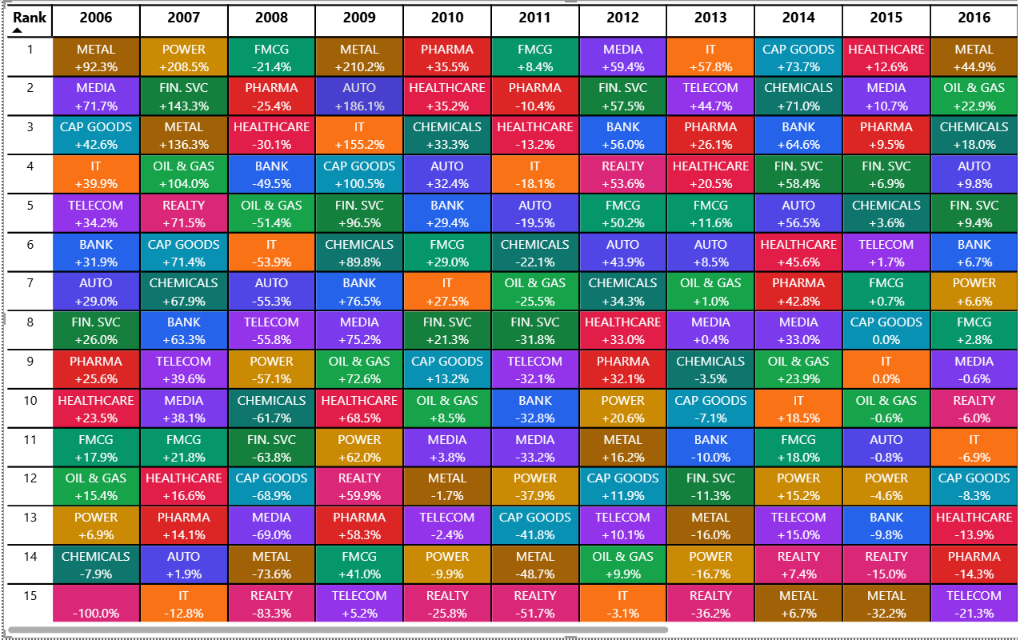

Layout of this report page (visuals, bound fields, positions):
{"tool":"powerbi","page":{"name":"Page 1","canvas":[1280,720],"ordinal":0},"visuals":[{"type":"pivotTable","fields":{"Rows":["Rank Table.Rank"],"Columns":["Date Table.Year"],"Values":["Combine Data.Sector Return Label"]},"box":[0,0,1280.2,719.8],"z":0}]}

Visuals, with their boxes on the page's 1280x720 design canvas (x1, y1, x2, y2). These are canvas units, not pixel positions in the 1018x641 screenshot, which may show the page scaled, cropped or inside an application window:
pivotTable - Rank Table.Rank x Date Table.Year: [left=0, top=0, right=1280, bottom=720]
